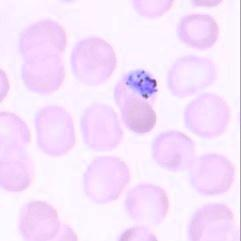Infected: (115, 69, 159, 113)
Uninfected: (70, 37, 117, 85), (83, 156, 130, 203), (166, 56, 217, 99), (183, 92, 230, 137), (19, 19, 67, 62), (82, 103, 124, 152), (35, 106, 76, 156), (22, 46, 65, 92), (188, 152, 234, 194), (187, 202, 235, 241), (152, 130, 197, 171), (0, 141, 34, 193), (125, 184, 168, 225), (113, 96, 158, 134), (20, 201, 60, 241), (176, 13, 220, 49)
